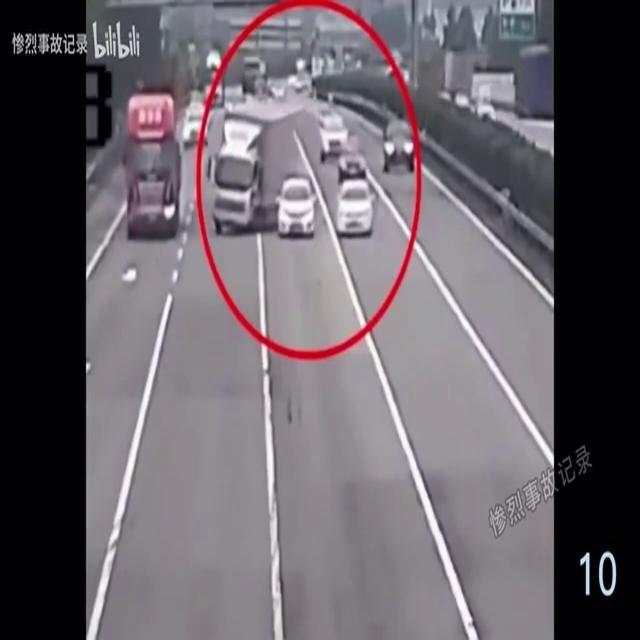multiple_accident: (199, 107, 323, 251)
normal: (113, 79, 184, 240), (329, 180, 386, 246), (380, 113, 427, 173)
